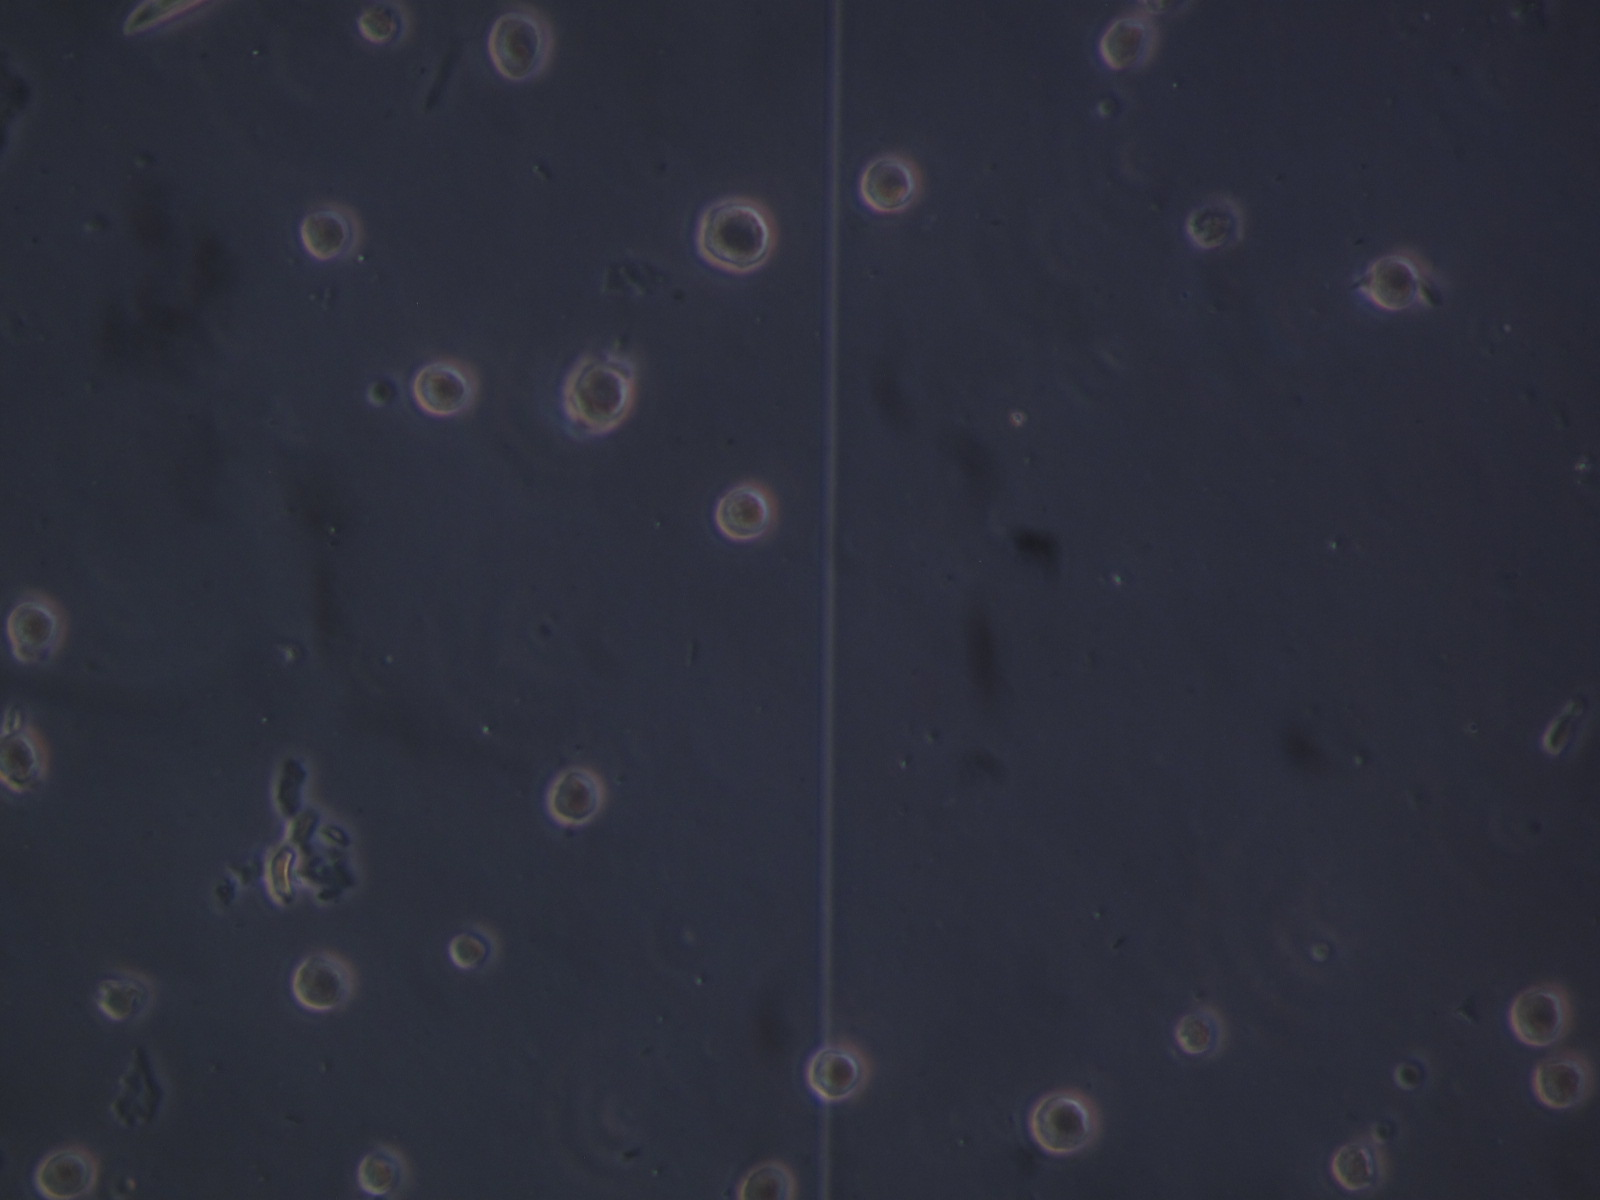hemo: (697, 193, 780, 276), (564, 357, 634, 434), (486, 5, 556, 79), (1031, 1087, 1102, 1155), (297, 197, 364, 263), (1366, 248, 1432, 313), (1509, 981, 1571, 1049), (716, 479, 779, 543), (1099, 10, 1162, 74), (414, 354, 479, 416), (31, 1143, 101, 1200), (860, 154, 923, 216), (805, 1044, 869, 1103), (294, 950, 353, 1013), (96, 966, 159, 1024), (1187, 198, 1247, 256), (6, 590, 64, 649), (1174, 1003, 1228, 1065), (1, 726, 50, 794), (549, 766, 603, 827), (1330, 1139, 1393, 1187), (357, 1145, 409, 1199), (1534, 1058, 1587, 1111), (358, 1, 413, 45), (736, 1162, 796, 1200), (449, 926, 499, 971)
